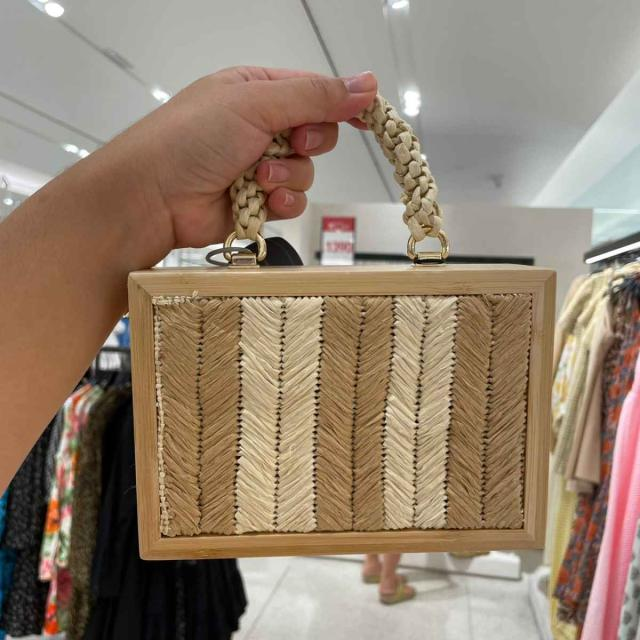handbag: (114, 232, 558, 563)
